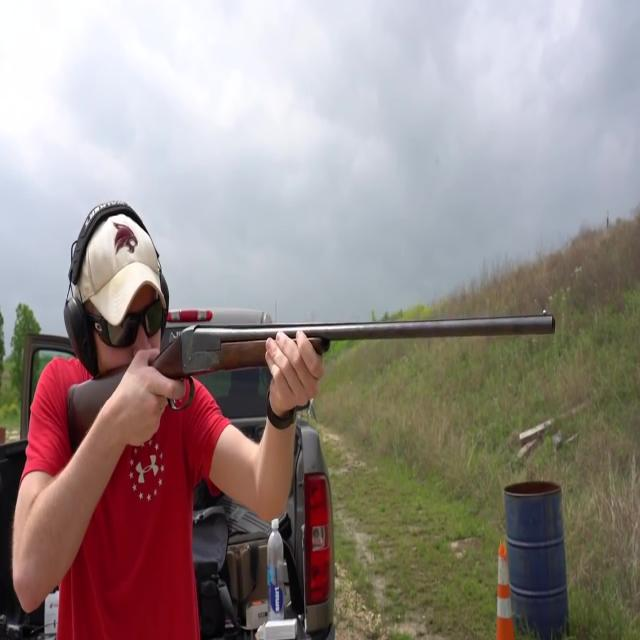Weapon: (25, 316, 597, 474)
